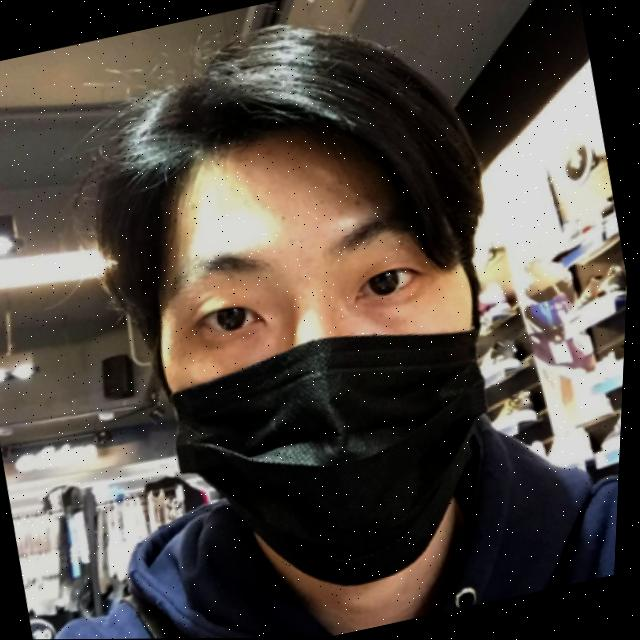Mask: (129, 240, 535, 618)
